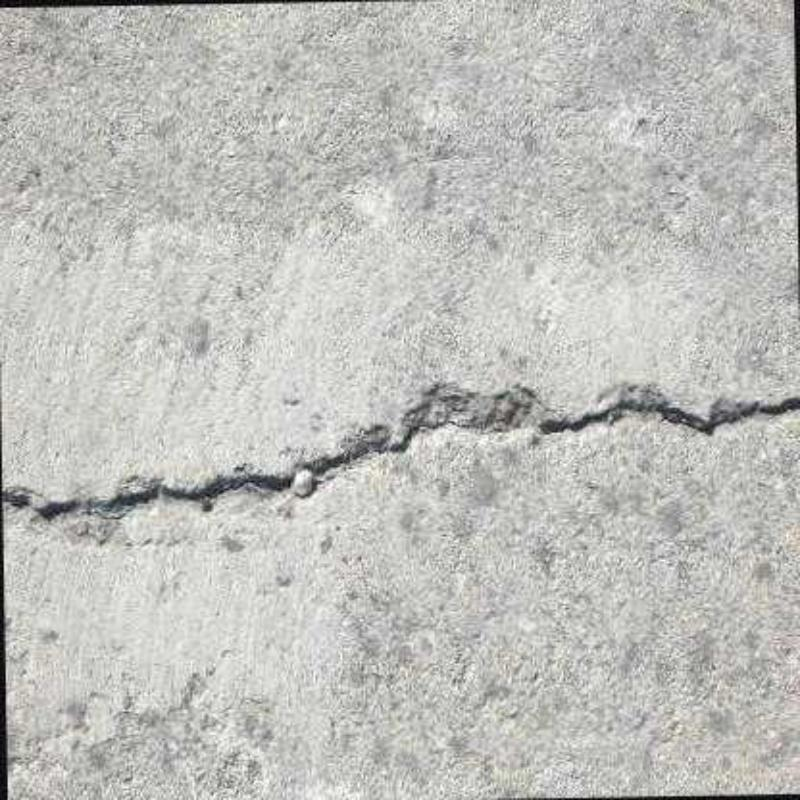crack: (1, 383, 534, 519), (536, 385, 798, 439)
